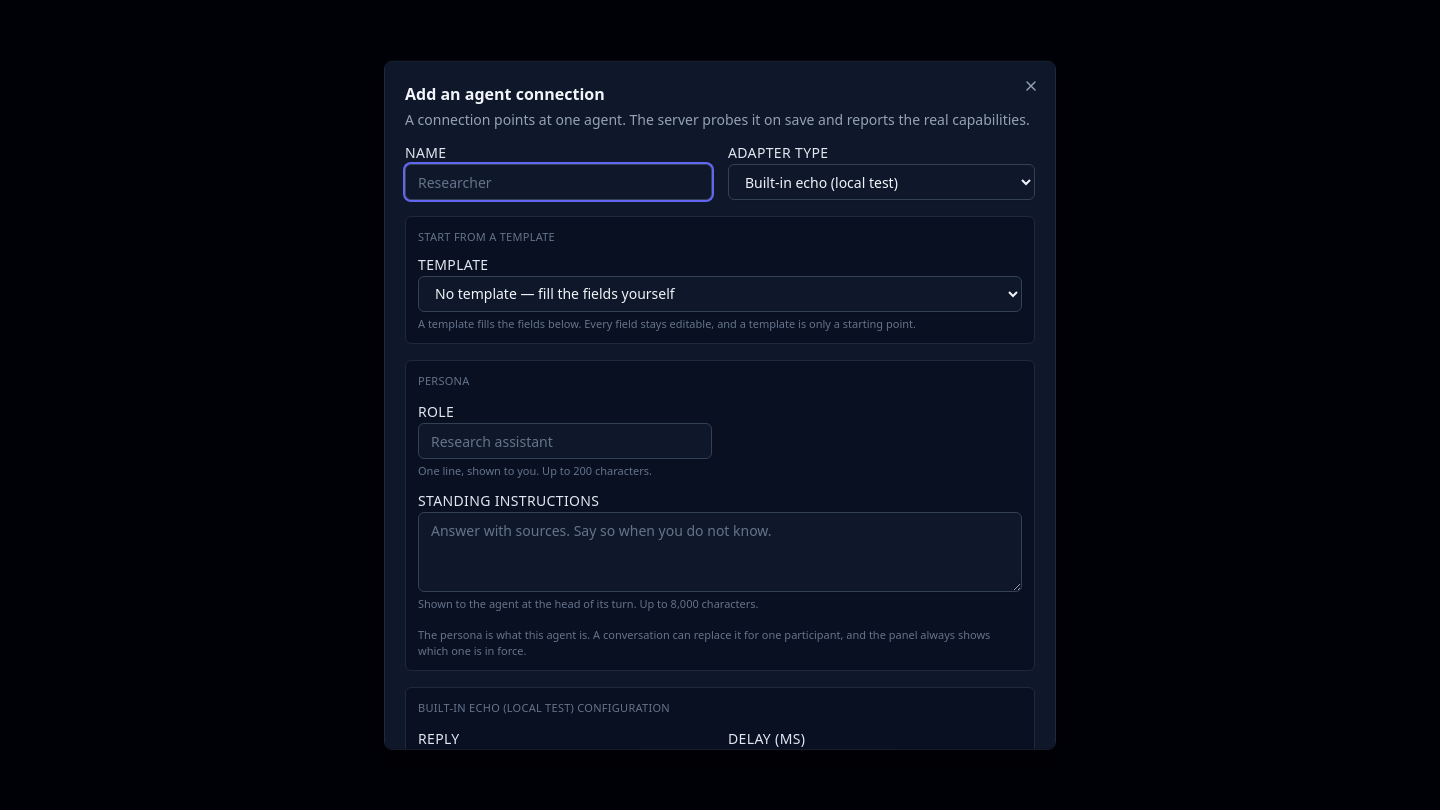
Test: the preset picker › fills the Pi template with the command and the session it keeps
The image size is (1440, 810).
Select "Pi RPC session agent" in the dropdown labelled "Adapter type": (882, 182) [728,164,1035,200]
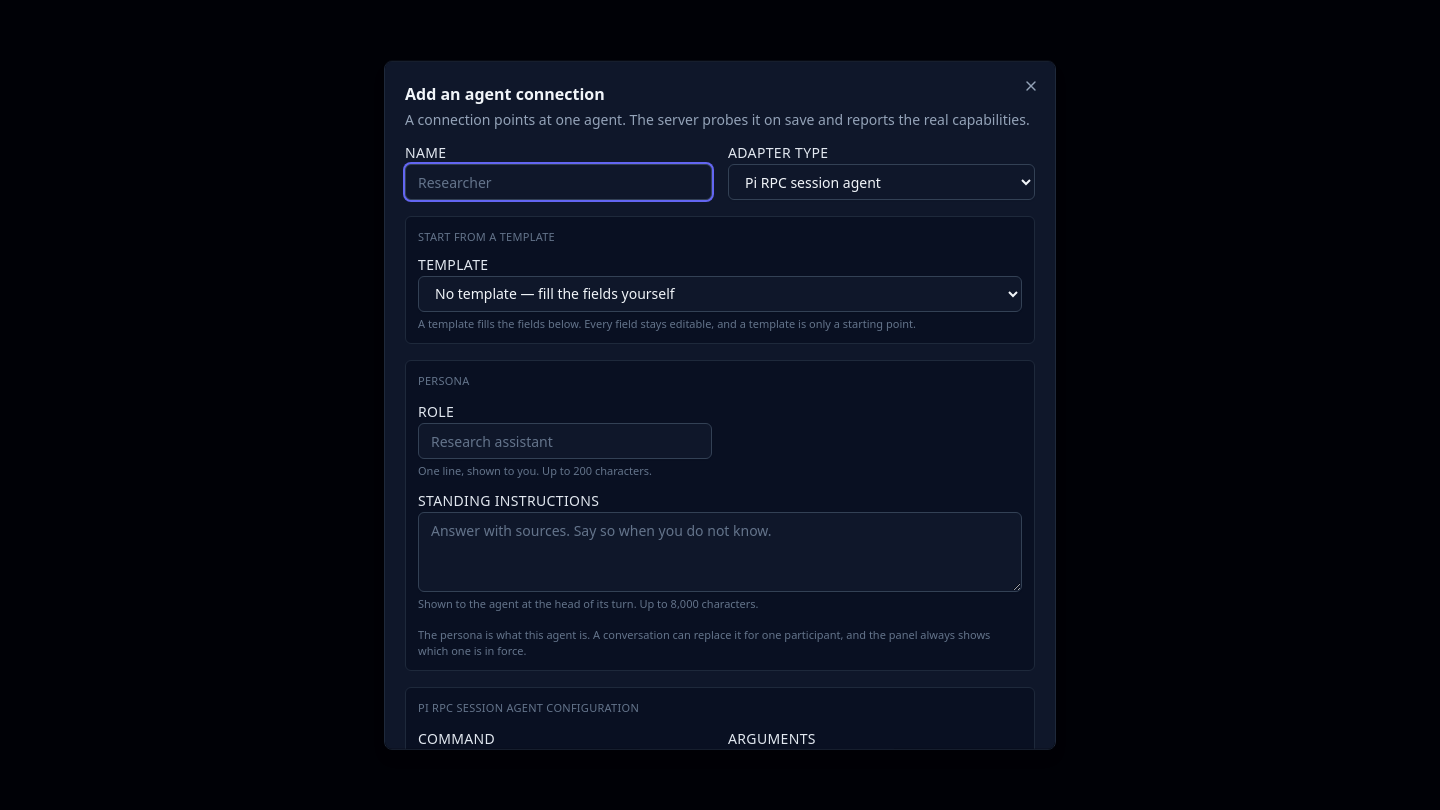
Select "Pi (RPC session)" in the dropdown labelled "Template": (720, 293) [418,275,1022,311]
(page scrolled)
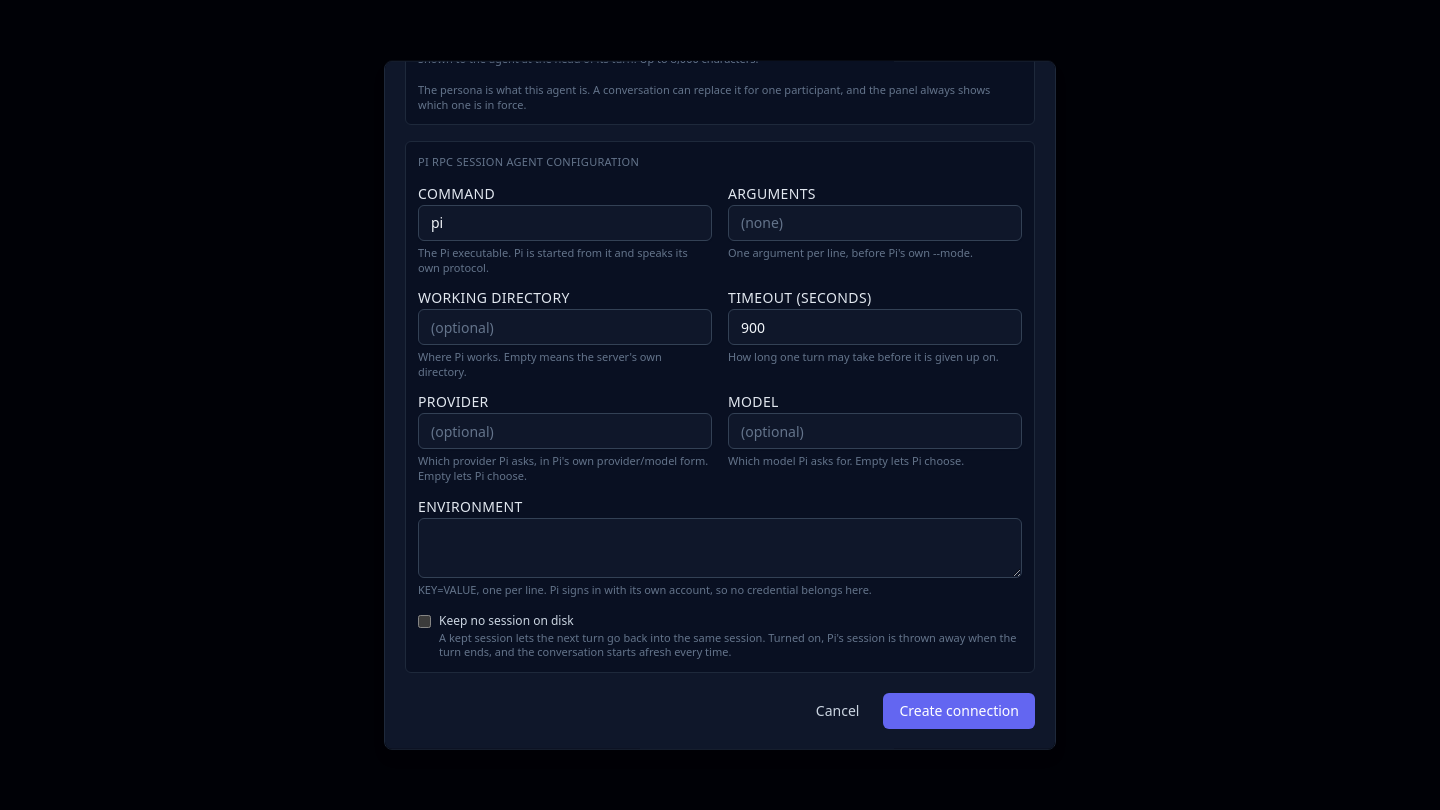
Check: the field labelled "Command" holds "pi", box [418,204,712,240]
Check: the field labelled "Provider" is empty, box [418,413,712,449]
Check: the field labelled "Model" is empty, box [728,413,1022,449]
